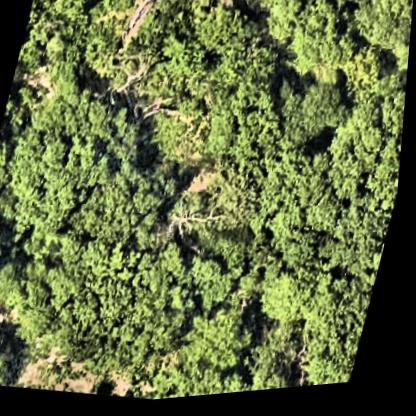tree-top: (25, 227, 191, 382), (0, 97, 135, 243), (141, 1, 284, 126), (239, 157, 346, 284), (321, 70, 410, 220), (72, 158, 185, 261), (293, 281, 379, 394), (180, 299, 269, 393), (319, 200, 399, 291), (276, 71, 360, 157), (284, 0, 363, 86), (179, 248, 253, 322), (345, 0, 414, 73), (227, 346, 315, 398), (34, 45, 89, 109), (158, 363, 238, 403), (339, 52, 390, 110), (28, 0, 104, 28), (0, 322, 27, 389), (0, 216, 16, 320)
